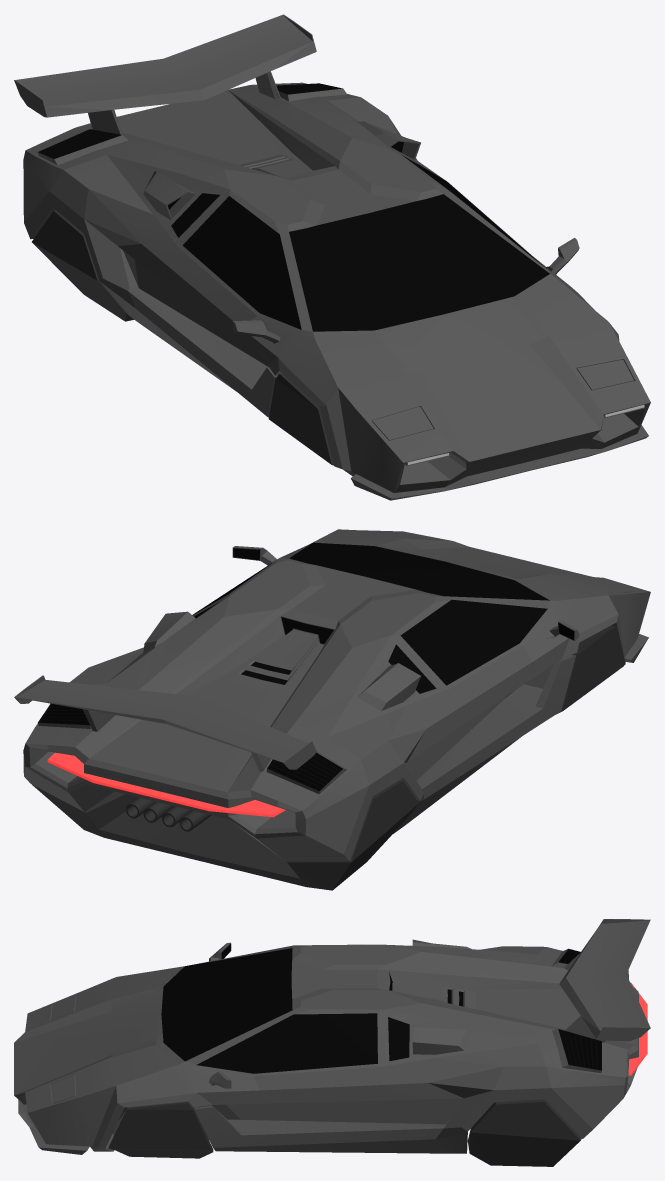
Rendered from car.fbx.
3 views of the same model, one above another, from view 1: azimuth 30°, elevation 25°; view 2: azimuth 150°, elevation 25°; view 3: azimuth 270°, elevation 25° (orthographic). The views are drawn at different scales.
Visible parts, largest first — view 1: Car_1; view 2: Car_1; view 3: Car_1.
Boxes of the visible parts, x1,y1,x2,y2 form: Car_1: [14, 14, 650, 500]; Car_1: [14, 529, 650, 890]; Car_1: [14, 919, 650, 1166].
Bounding box in the file's own units: 253 × 123 × 495.
